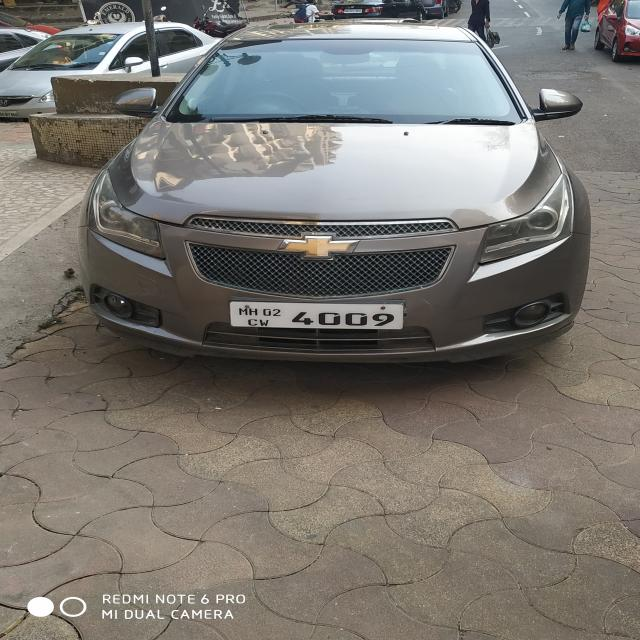Number-Plate: (229, 302, 403, 332)
